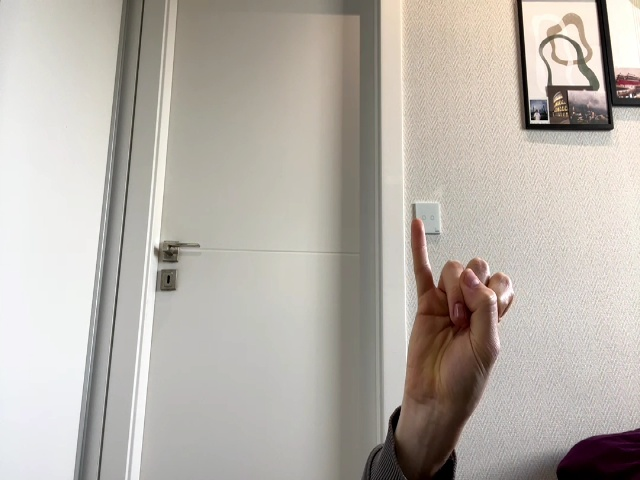I: (408, 220, 515, 398)
